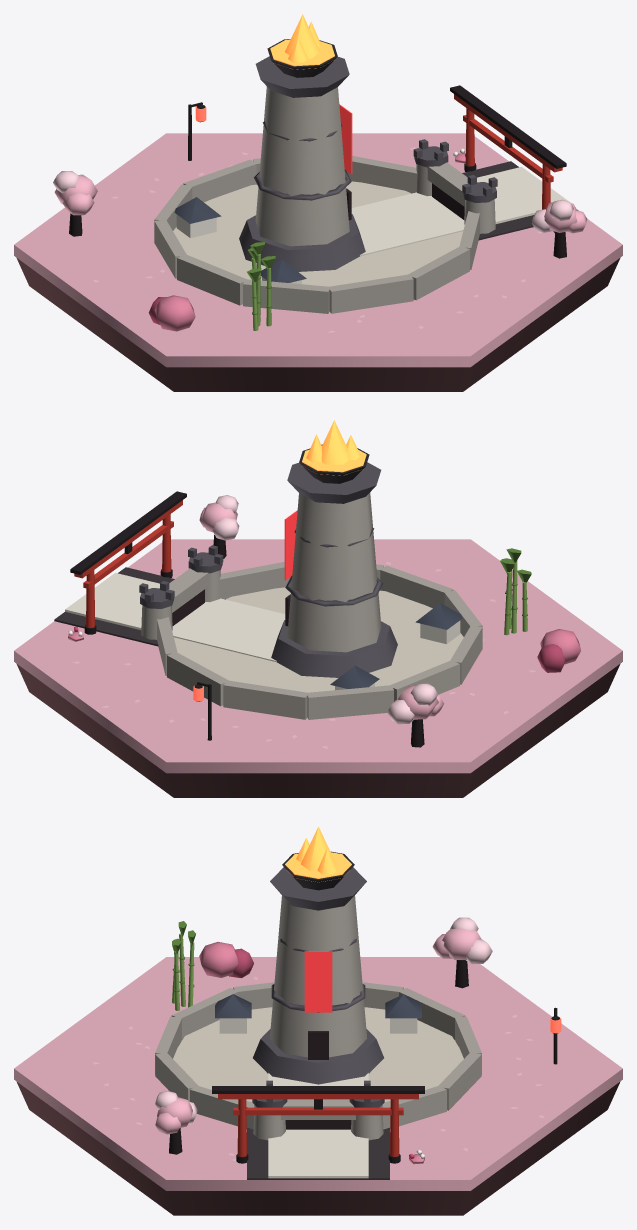
Rendered from tile_base_beacon.glb.
3 renders of one model, top to bottom at view 1: azimuth 30°, elevation 25°; view 2: azimuth 150°, elevation 25°; view 3: azimuth 270°, elevation 25°, orthographic.
Parts seen in each view (by area): view 1: ground, ground_soil, tower_body, courtyard, road, tower_foot, wall_7, tower_top, wall_6, wall_5, wall_8, wall_0 (+21 smaller); view 2: ground, ground_soil, tower_body, courtyard, road, tower_foot, wall_2, wall_3, tower_top, wall_9, wall_7, deco_tree_0 (+22 smaller); view 3: ground, ground_soil, tower_body, courtyard, road, tower_foot, tower_top, deco_tree_0, tower_banner, deco_torii_kasagi_top, deco_torii_nuki, wall_0 (+23 smaller).
Part boxes in pixels (box(x1,y1,x2,y2)): ground: box(14, 133, 622, 367); ground_soil: box(16, 258, 620, 391); tower_body: box(255, 86, 349, 246); courtyard: box(173, 181, 462, 286); road: box(351, 161, 578, 255); tower_foot: box(239, 214, 365, 271); wall_7: box(328, 274, 413, 313); tower_top: box(255, 56, 349, 97); wall_6: box(243, 279, 329, 313); wall_5: box(177, 254, 247, 305); wall_8: box(408, 247, 469, 300); wall_0: box(346, 156, 417, 192); ground: box(14, 539, 622, 773); ground_soil: box(16, 664, 620, 797); tower_body: box(287, 492, 381, 652); courtyard: box(174, 587, 463, 692); road: box(54, 567, 285, 661); tower_foot: box(271, 620, 397, 677); wall_2: box(223, 680, 308, 719); wall_3: box(307, 685, 393, 719); tower_top: box(287, 462, 381, 503); wall_9: box(219, 562, 290, 598); wall_7: box(379, 565, 453, 608); deco_tree_0: box(387, 683, 444, 724); ground: box(14, 957, 622, 1190); ground_soil: box(16, 1081, 620, 1215); tower_body: box(269, 895, 367, 1057); courtyard: box(173, 1007, 463, 1102); road: box(247, 1073, 389, 1179); tower_foot: box(253, 1029, 383, 1084); tower_top: box(270, 867, 366, 910); deco_tree_0: box(432, 917, 492, 964); tower_banner: box(304, 951, 332, 1012); deco_torii_kasagi_top: box(212, 1086, 424, 1093); deco_torii_nuki: box(233, 1107, 403, 1115); wall_0: box(382, 1086, 446, 1129).
Size of the model in its own units: 1.73 by 1 by 2.
